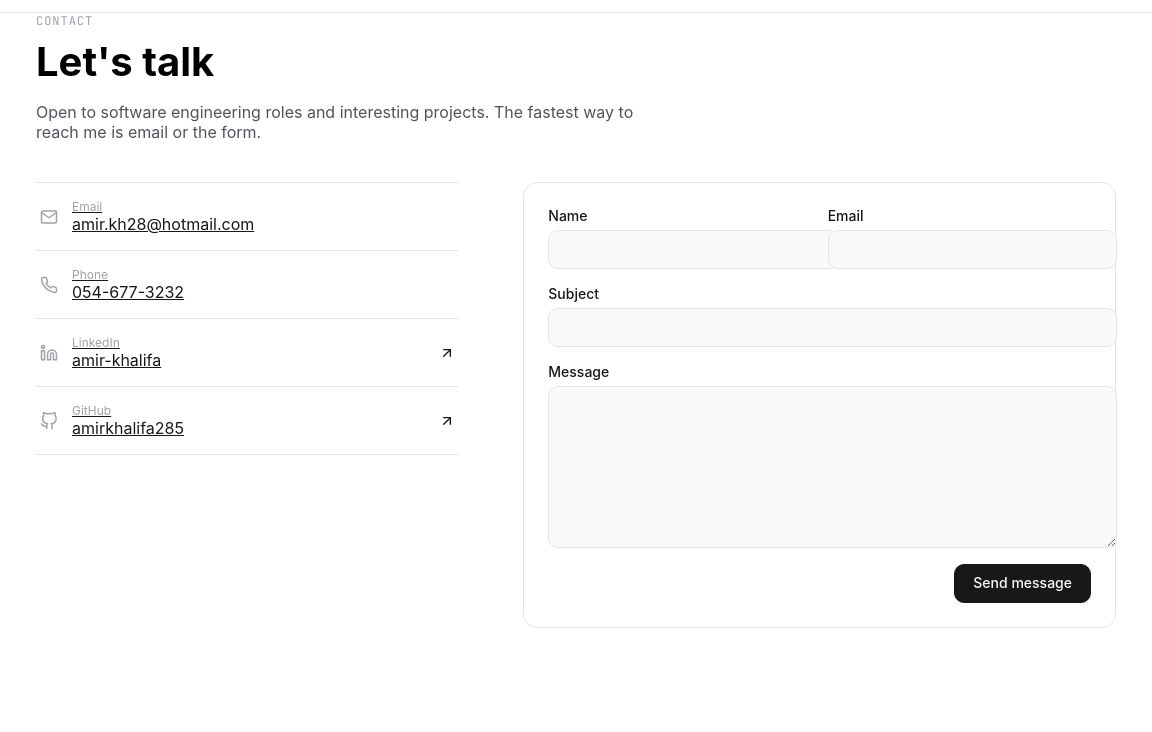
Scenario: shows validation errors and does not submit an empty form
Click the button "Send message" at x=1023, y=583, box [954,564,1091,603]
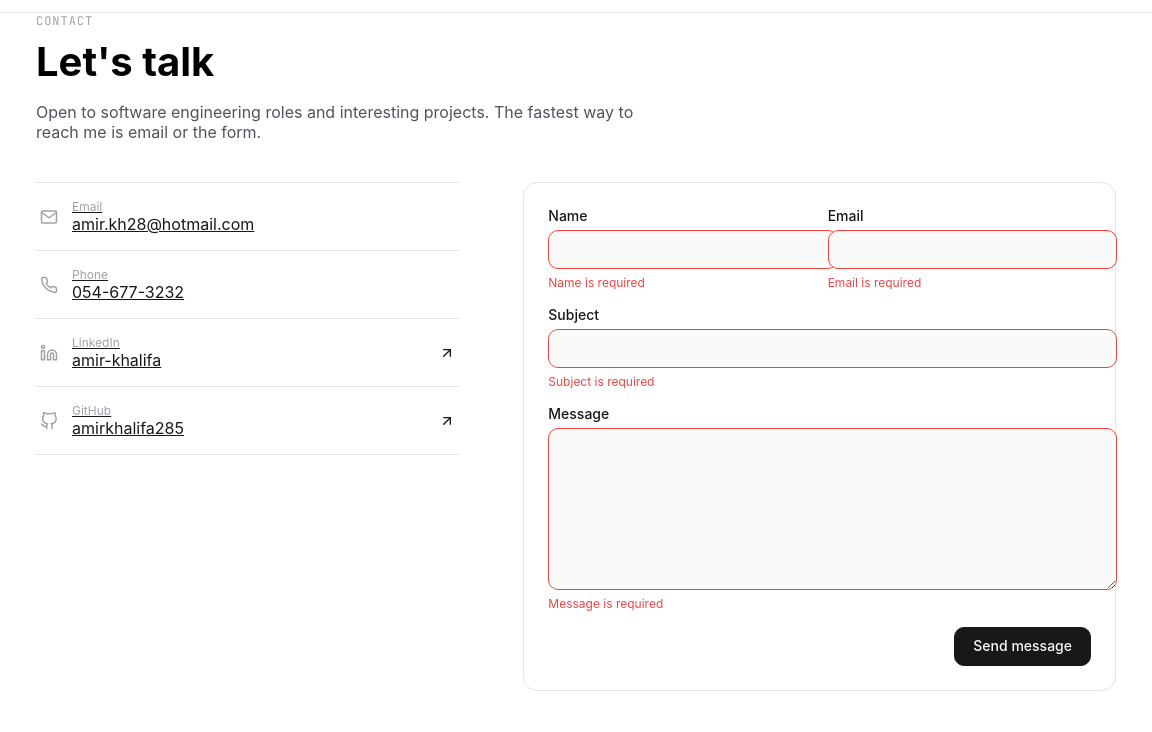
Now the text "Name is required" is shown, box [548,275,645,290]
Now the text "Message is required" is shown, box [548,596,663,611]
